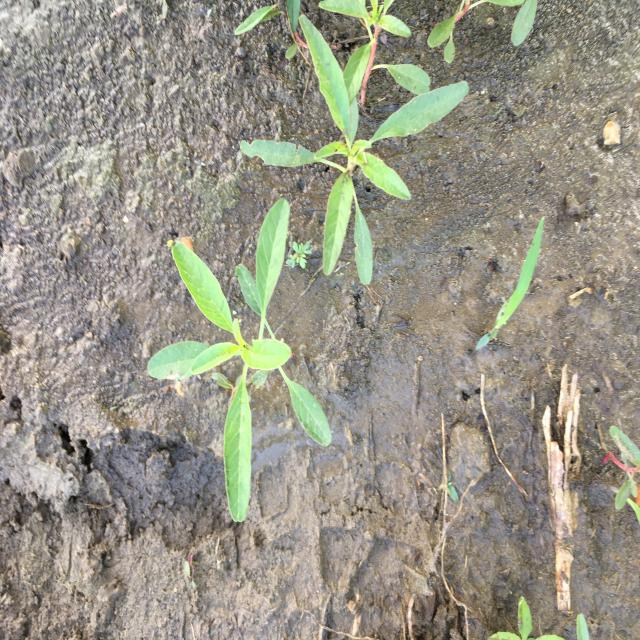Ragweed: (285, 241, 314, 272)
Waterhemp: (237, 12, 471, 288), (146, 196, 334, 525)
